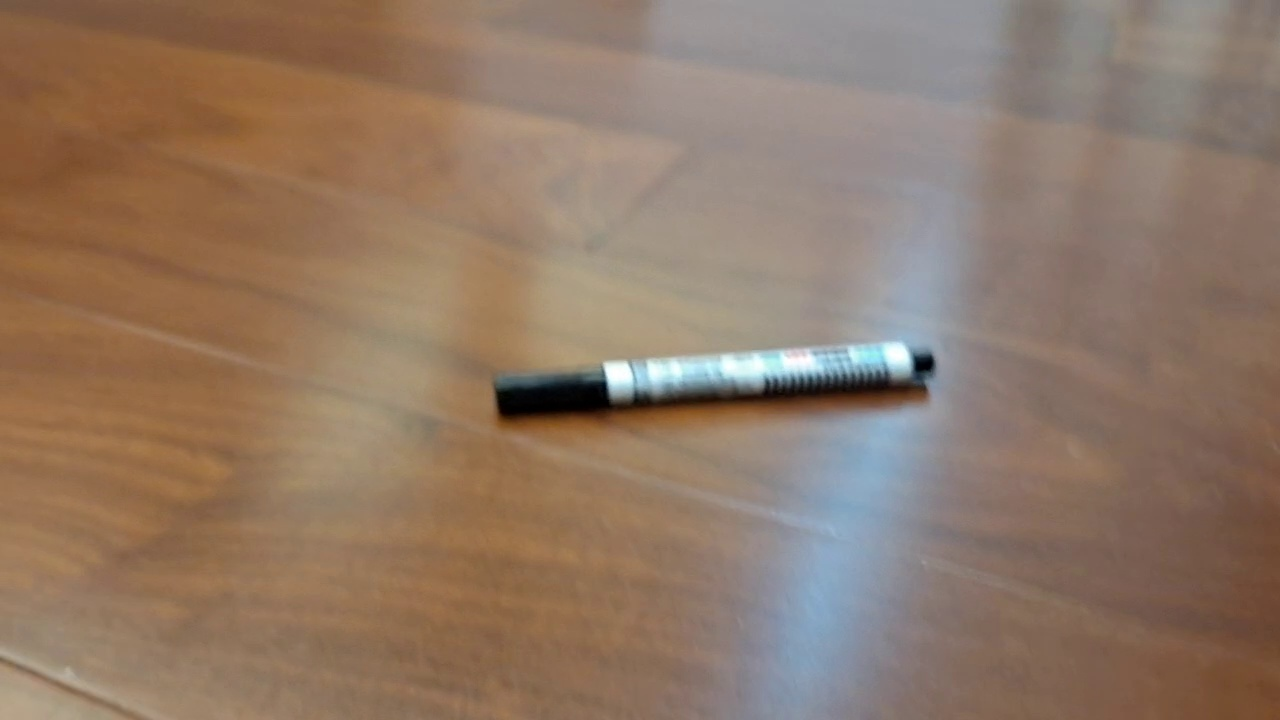pen: (493, 340, 935, 417)
